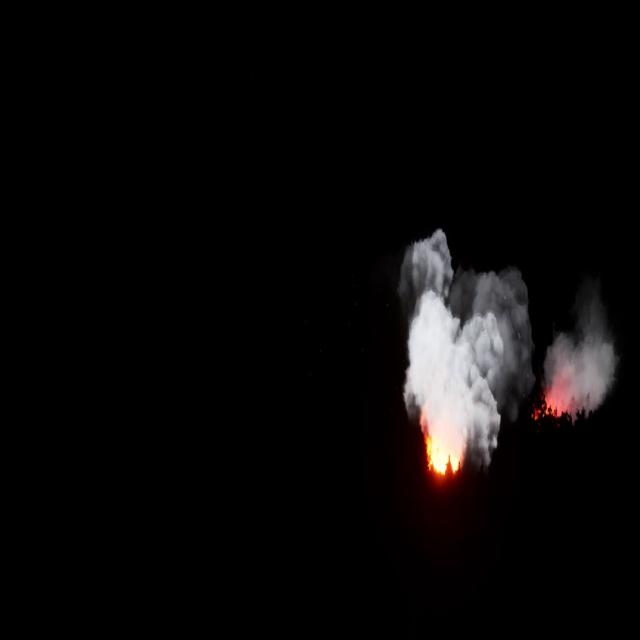fire: (419, 418, 466, 478), (536, 384, 578, 416)
smoke: (399, 217, 525, 461), (546, 298, 615, 414)
